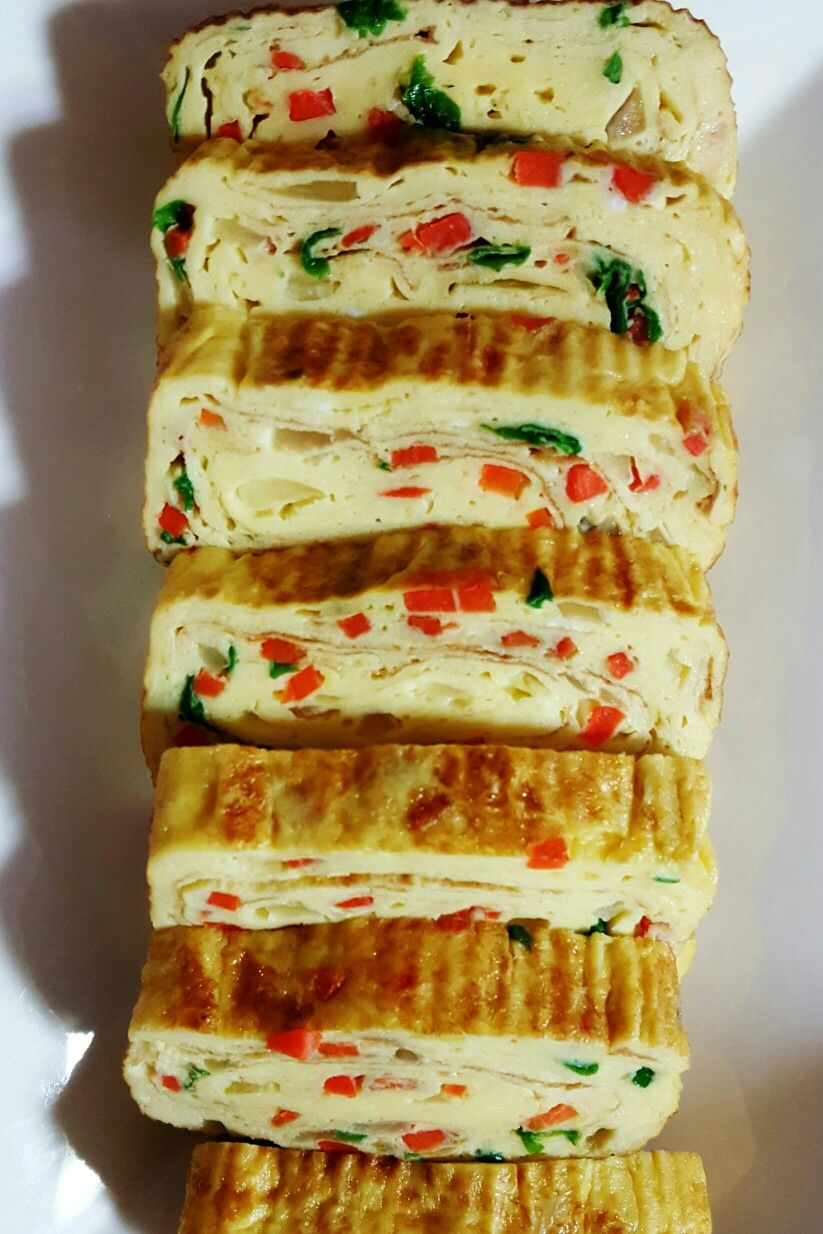gyelanmal-i: (113, 8, 741, 1228)
